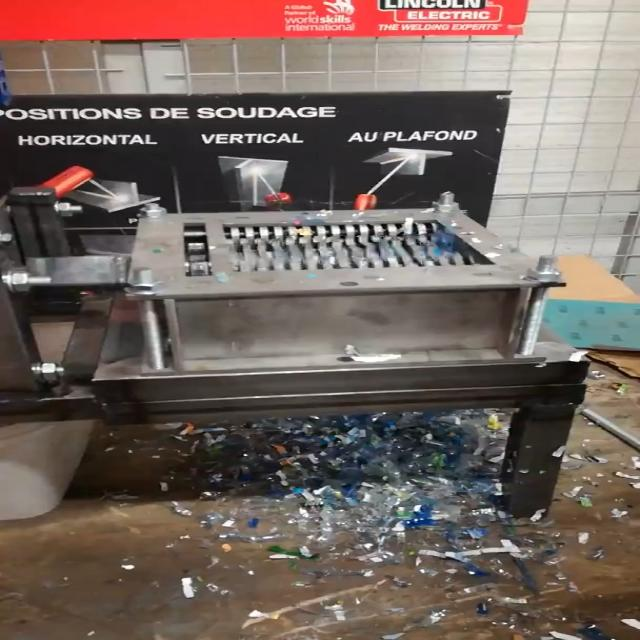Broyeur: (118, 205, 562, 296)
